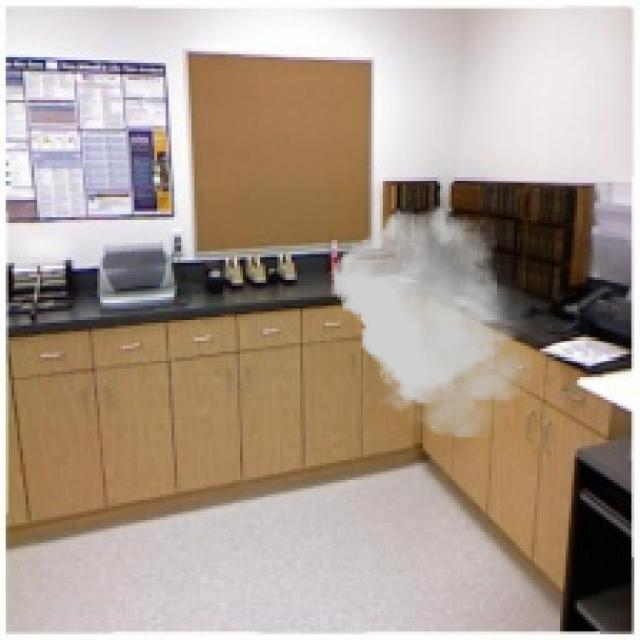smoke: (332, 206, 532, 437)
